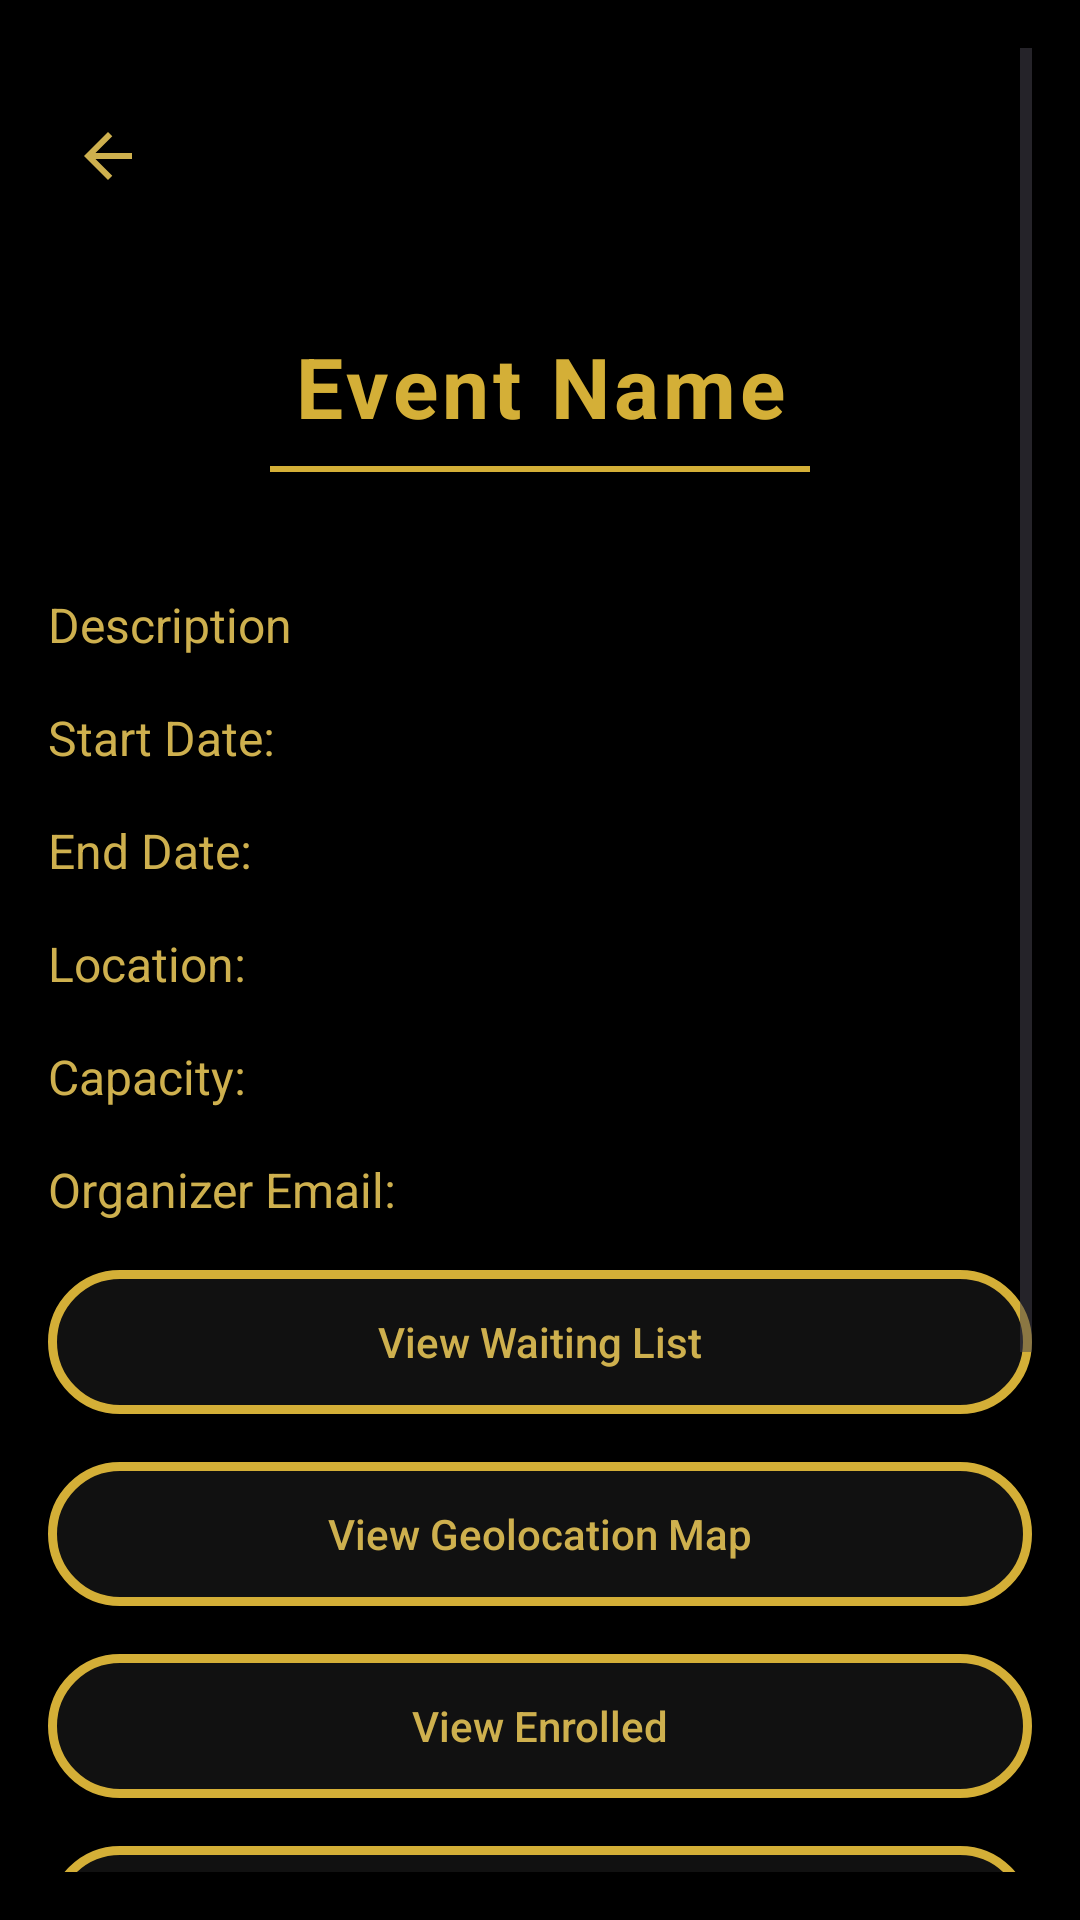

Icon bounding boxes for this 1080×1920 phone screenshot, format {"x1": x1, "y1": y1, "x2": x2, "y2": y2}:
Back: {"x1": 84, "y1": 132, "x2": 132, "y2": 180}
